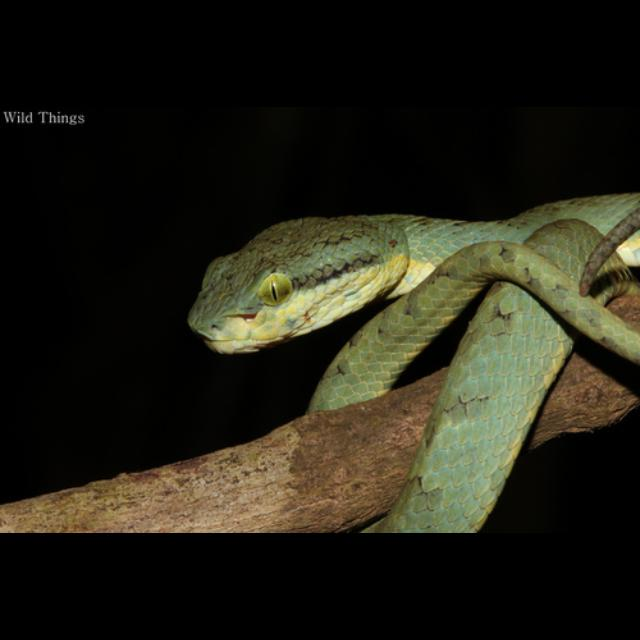snake: (186, 173, 640, 533)
